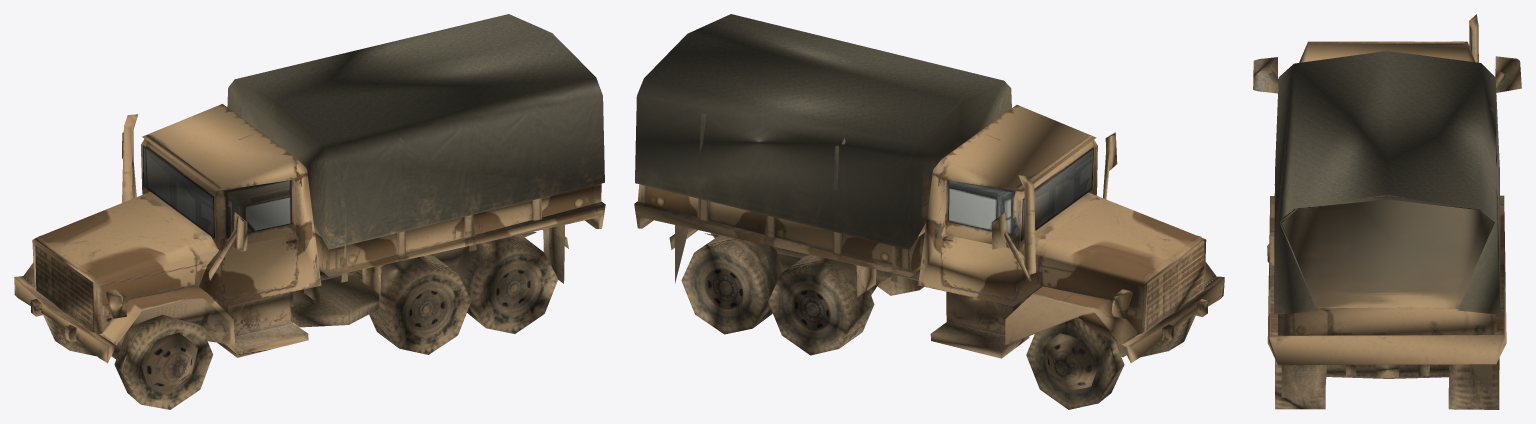
Rendered from 2.5Truck.fbx.
3 renders of one model, left to right at view 1: azimuth 30°, elevation 25°; view 2: azimuth 150°, elevation 25°; view 3: azimuth 270°, elevation 25°, orthographic. The views are drawn at different scales.
Visible parts, largest first — view 1: Mesh_0; view 2: Mesh_0; view 3: Mesh_0.
Part boxes in pixels (x1,y1,x2,y2): Mesh_0: [14, 14, 605, 409]; Mesh_0: [634, 14, 1224, 409]; Mesh_0: [1253, 14, 1521, 409].
Size of the model in its own units: 100 by 46.09 by 43.07.
Materials: 1 (1 with a texture image).
